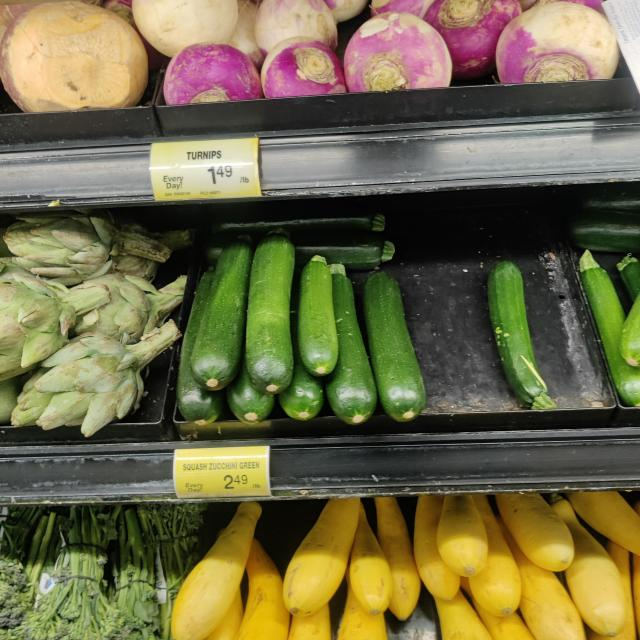Zucchini: (177, 503, 262, 639), (487, 261, 561, 413), (578, 248, 640, 410), (192, 229, 252, 390), (284, 494, 360, 618), (365, 271, 427, 421), (248, 228, 297, 396), (327, 263, 376, 426), (461, 492, 523, 618), (299, 255, 340, 375)
